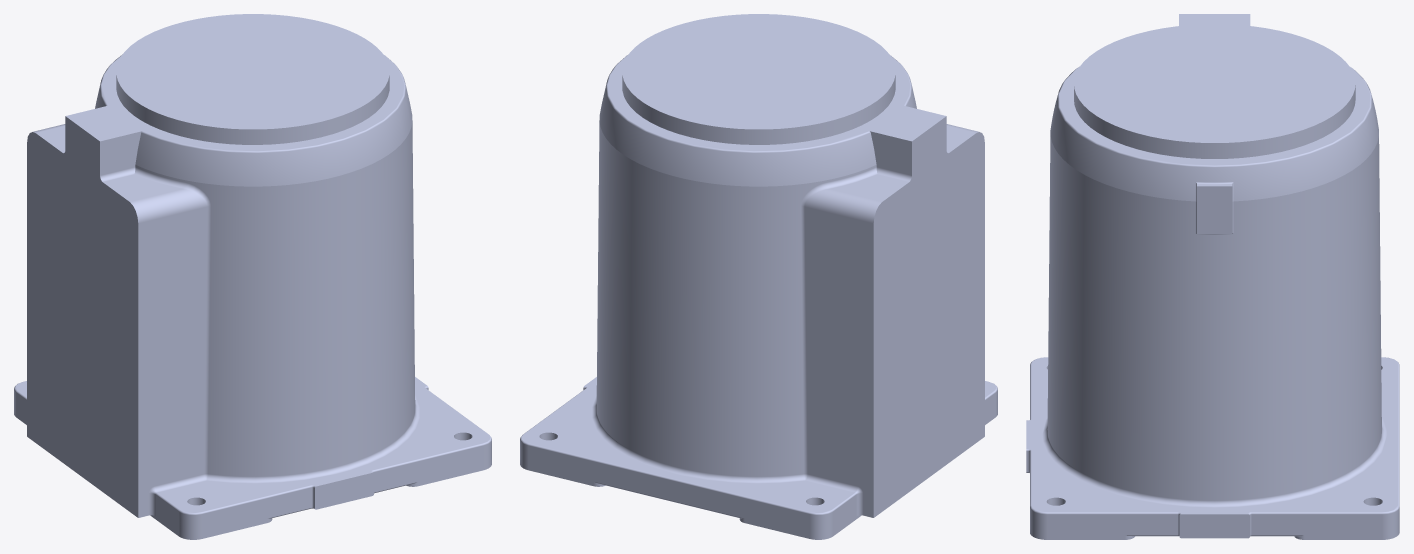
The model's file is base_linkold.dae.
3 views of the same model, side by side, from view 1: azimuth 30°, elevation 25°; view 2: azimuth 150°, elevation 25°; view 3: azimuth 270°, elevation 25° (orthographic). The views are drawn at different scales.
Visible parts, largest first — view 1: a718854d-4ca6-402b-b181-dcbf63cc90d5; view 2: a718854d-4ca6-402b-b181-dcbf63cc90d5; view 3: a718854d-4ca6-402b-b181-dcbf63cc90d5.
Boxes of the visible parts, <box> form: a718854d-4ca6-402b-b181-dcbf63cc90d5: <box>14,14,491,539</box>; a718854d-4ca6-402b-b181-dcbf63cc90d5: <box>520,14,997,539</box>; a718854d-4ca6-402b-b181-dcbf63cc90d5: <box>1026,14,1399,539</box>.
Bounding box in the file's own units: 0.222 × 0.212 × 0.237.
